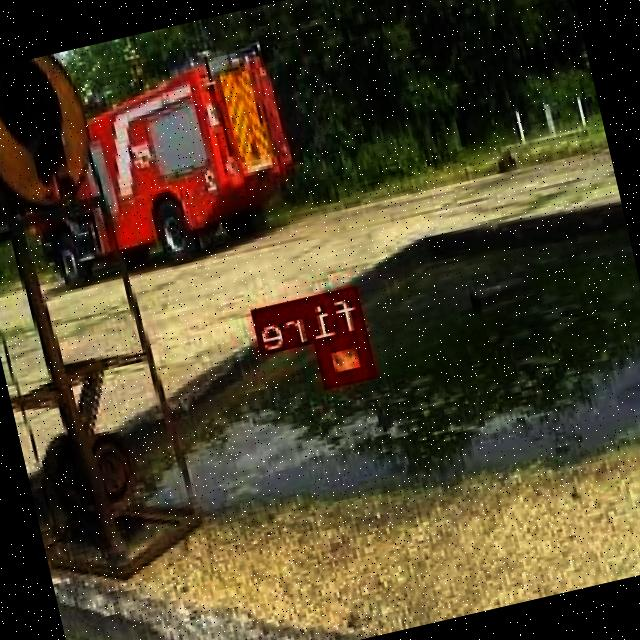fire: (318, 328, 378, 385)
